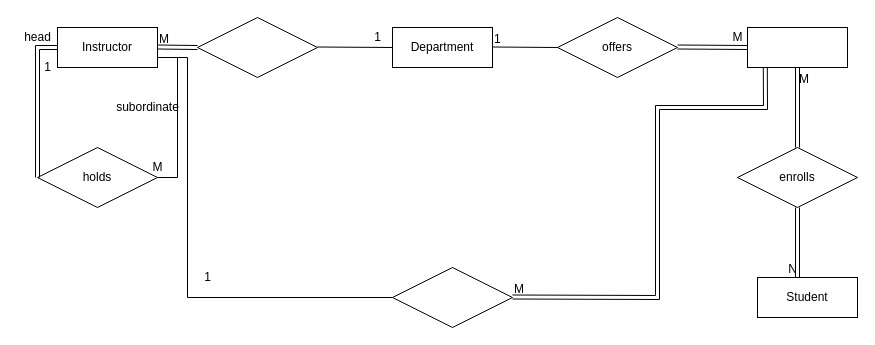
The diagram is 875 pixels wide and 345 high, and some of its shapes have lost their labels. The shapes that lost their labels are listed below. From the top down, each one's box as (x1, y1, x2, y2) in pixels, then its label:
(196, 16, 318, 78): works
(746, 26, 848, 68): Course
(392, 266, 512, 328): takes
